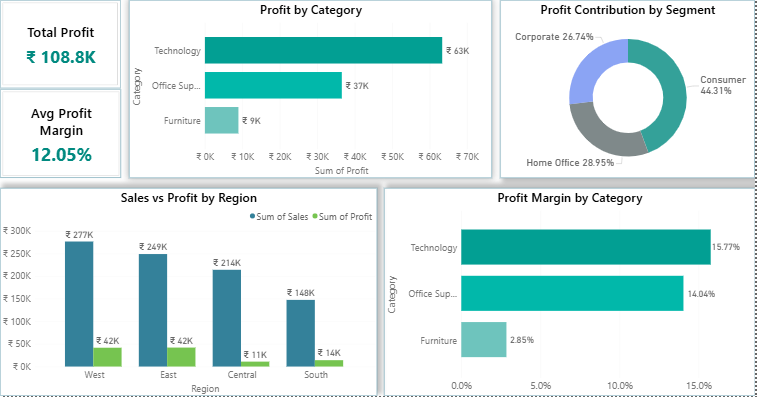

The dashboard page shown, as its layout file describes it:
{"tool":"powerbi","page":{"name":"Profit Analysis","canvas":[1641,860],"ordinal":1},"visuals":[{"type":"cardVisual","fields":{"Data":["Sum(superstore_processed.Profit)"]},"box":[0,0,262.7,191.7],"z":0},{"type":"cardVisual","fields":{"Data":["superstore_processed.Profit_Margin_Percent"]},"box":[0,193.5,263,193.5],"z":1000},{"type":"clusteredBarChart","title":"Profit by Category","fields":{"Category":["superstore_processed.Category"],"Y":["Sum(superstore_processed.Profit)"]},"box":[280.4,0,789.1,387],"z":2000},{"type":"clusteredColumnChart","title":"Sales vs Profit by Region","fields":{"Category":["superstore_processed.Region"],"Y":["Sum(superstore_processed.Sales)","Sum(superstore_processed.Profit)"]},"box":[0,408.7,819.6,452.2],"z":3000},{"type":"clusteredBarChart","title":"Profit Margin by Category","fields":{"Category":["superstore_processed.Category"],"Y":["superstore_processed.Profit_Margin_Percent"]},"box":[834.8,408.7,806.5,452.2],"z":4000},{"type":"donutChart","title":"Profit Contribution by Segment","fields":{"Category":["superstore_processed.Segment"],"Y":["Sum(superstore_processed.Profit)"]},"box":[1087,0,554.3,387],"z":5000}]}

Visuals, with their boxes in screenshot pixels (x1, y1, x2, y2), scaled from the page's 1641x860 canvas onto the 757x397 screenshot:
cardVisual - Sum(superstore_processed.Profit): 0,0,121,88
cardVisual - superstore_processed.Profit_Margin_Percent: 0,89,121,179
"Profit by Category" clusteredBarChart: 129,0,493,179
"Sales vs Profit by Region" clusteredColumnChart: 0,189,378,396
"Profit Margin by Category" clusteredBarChart: 385,189,756,396
"Profit Contribution by Segment" donutChart: 501,0,756,179
